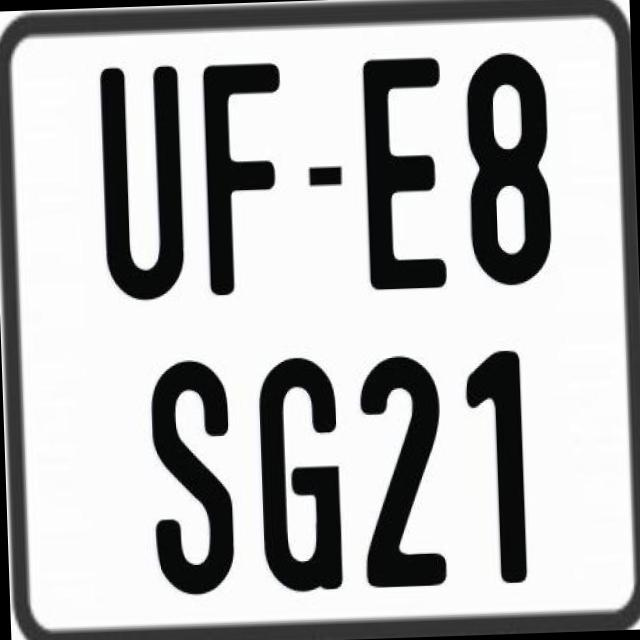1: (460, 345, 528, 584)
2: (358, 351, 449, 592)
8: (460, 48, 555, 291)
E: (360, 52, 450, 288)
F: (198, 57, 284, 290)
G: (253, 355, 344, 601)
S: (145, 353, 236, 590)
U: (98, 64, 184, 300)
